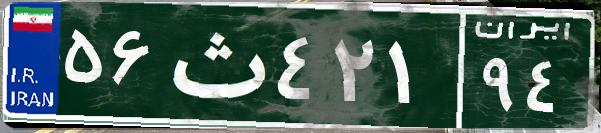1: (385, 28, 445, 110)
2: (330, 28, 385, 110)
4: (273, 28, 330, 110), (525, 38, 570, 115)
5: (57, 26, 110, 107)
6: (110, 28, 158, 105)
9: (475, 38, 525, 113)
ث: (158, 15, 273, 115)
